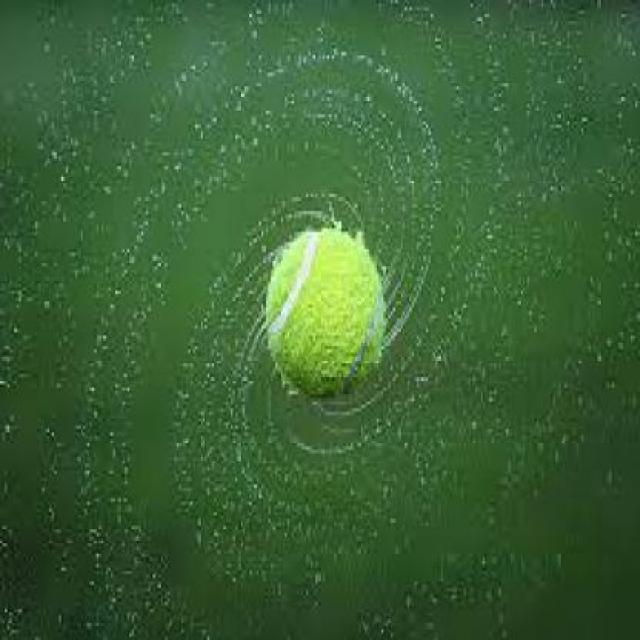Tennis_Ball: (271, 230, 394, 402)
